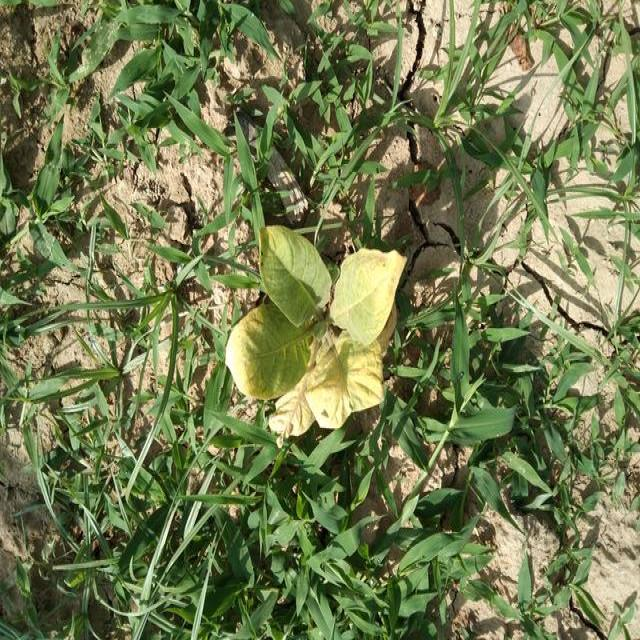crop: (222, 217, 414, 456)
